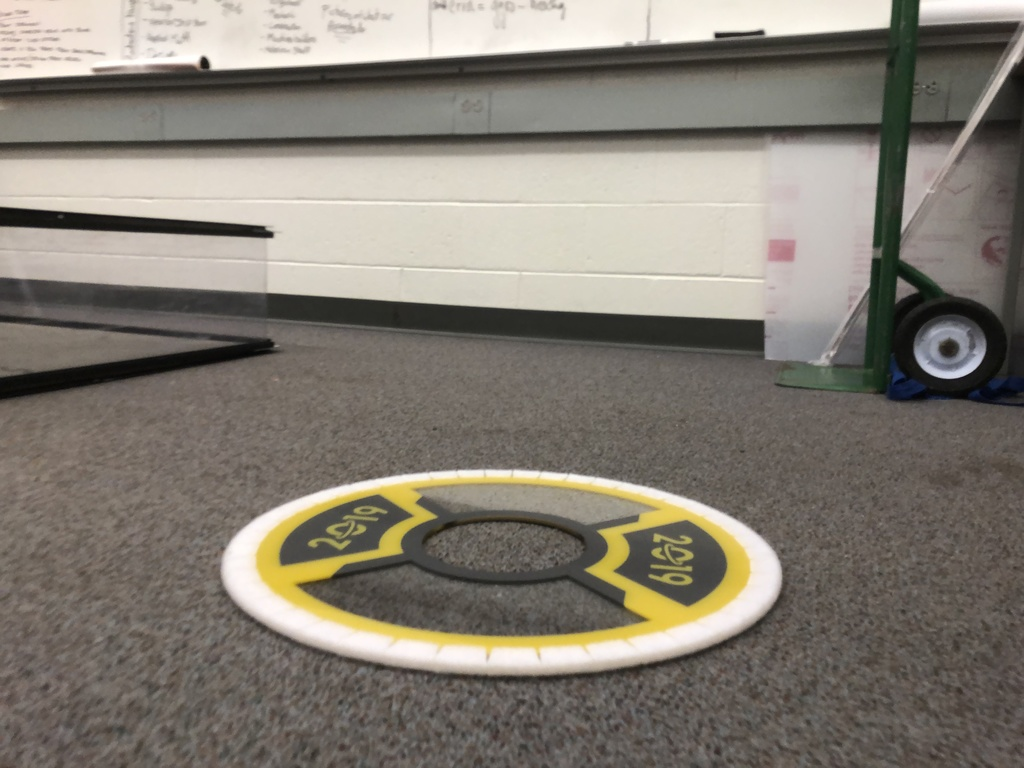hatch_panel: (207, 458, 789, 695)
